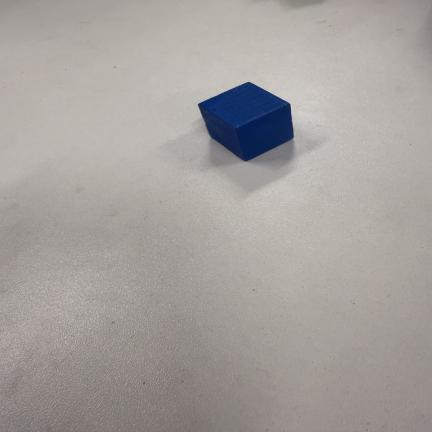BuildingBlocks: (199, 83, 293, 160)
